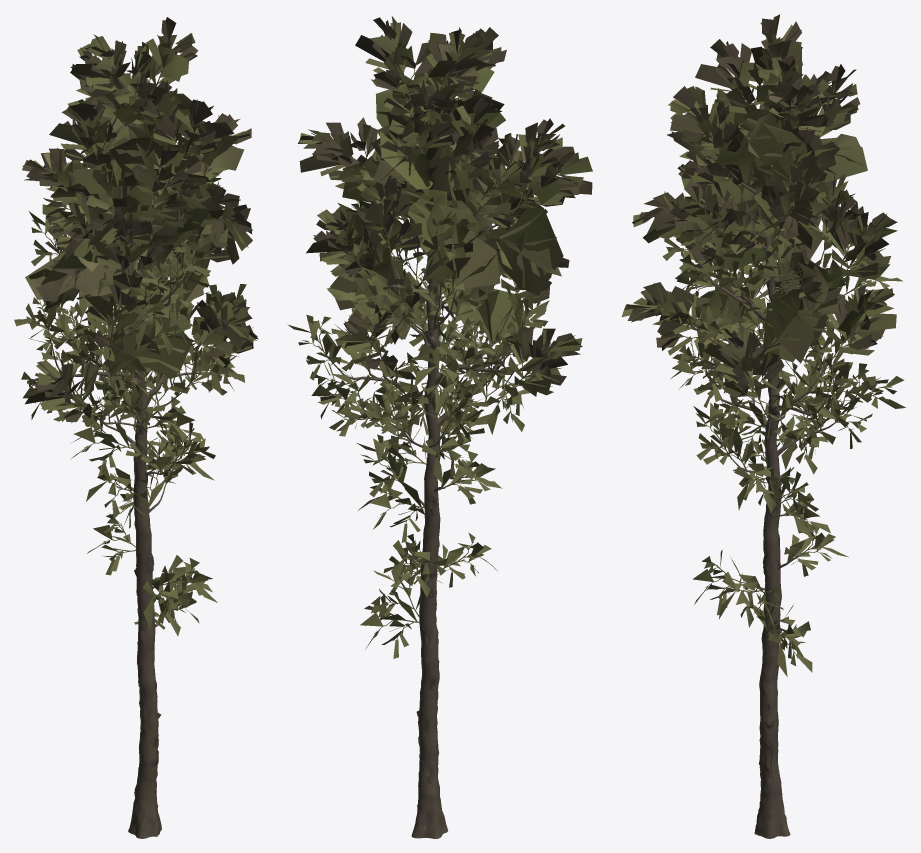
Rendered from SM_BlackAlder_Forest_02_PP_LOD3.gltf.
3 renders of one model, left to right at view 1: azimuth 30°, elevation 25°; view 2: azimuth 150°, elevation 25°; view 3: azimuth 270°, elevation 25°, orthographic. The views are drawn at different scales.
Visible parts, largest first — view 1: SM_BlackAlder_Forest_02_PP; view 2: SM_BlackAlder_Forest_02_PP; view 3: SM_BlackAlder_Forest_02_PP.
Boxes of the visible parts, x1,y1,x2,y2 form: SM_BlackAlder_Forest_02_PP: (14, 17, 258, 838); SM_BlackAlder_Forest_02_PP: (287, 16, 592, 838); SM_BlackAlder_Forest_02_PP: (621, 14, 905, 838).
Size of the model in its own units: 6.37 by 19.84 by 6.45.
3 materials, 3 textured.
